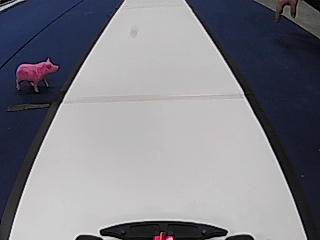pig: (13, 55, 59, 91)
